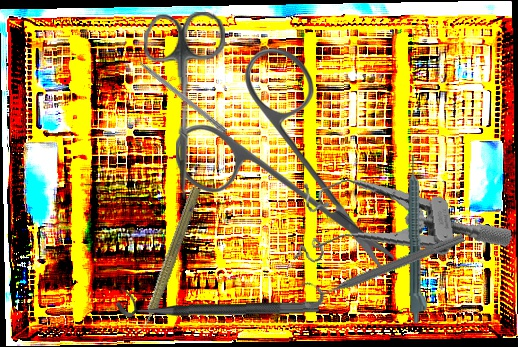Fixation Ring: (296, 219, 468, 312), (115, 284, 320, 318)
Handpiece: (132, 184, 204, 339), (407, 154, 429, 323)
Iris Scissors: (176, 47, 394, 274), (143, 11, 228, 200)
Pusher: (123, 46, 229, 135)
Speculum: (282, 152, 514, 280)
